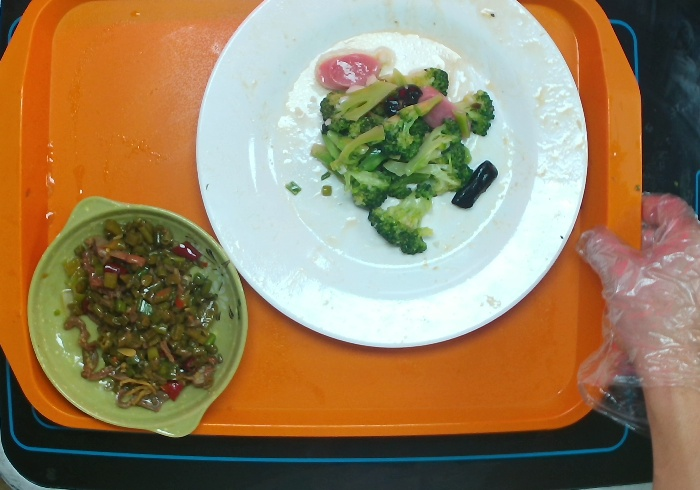NLDX-Da_Yuan_Pan: (193, 1, 590, 349)
NLDX-Lv_Hua_Shuang_Er_Die: (21, 197, 247, 439)
